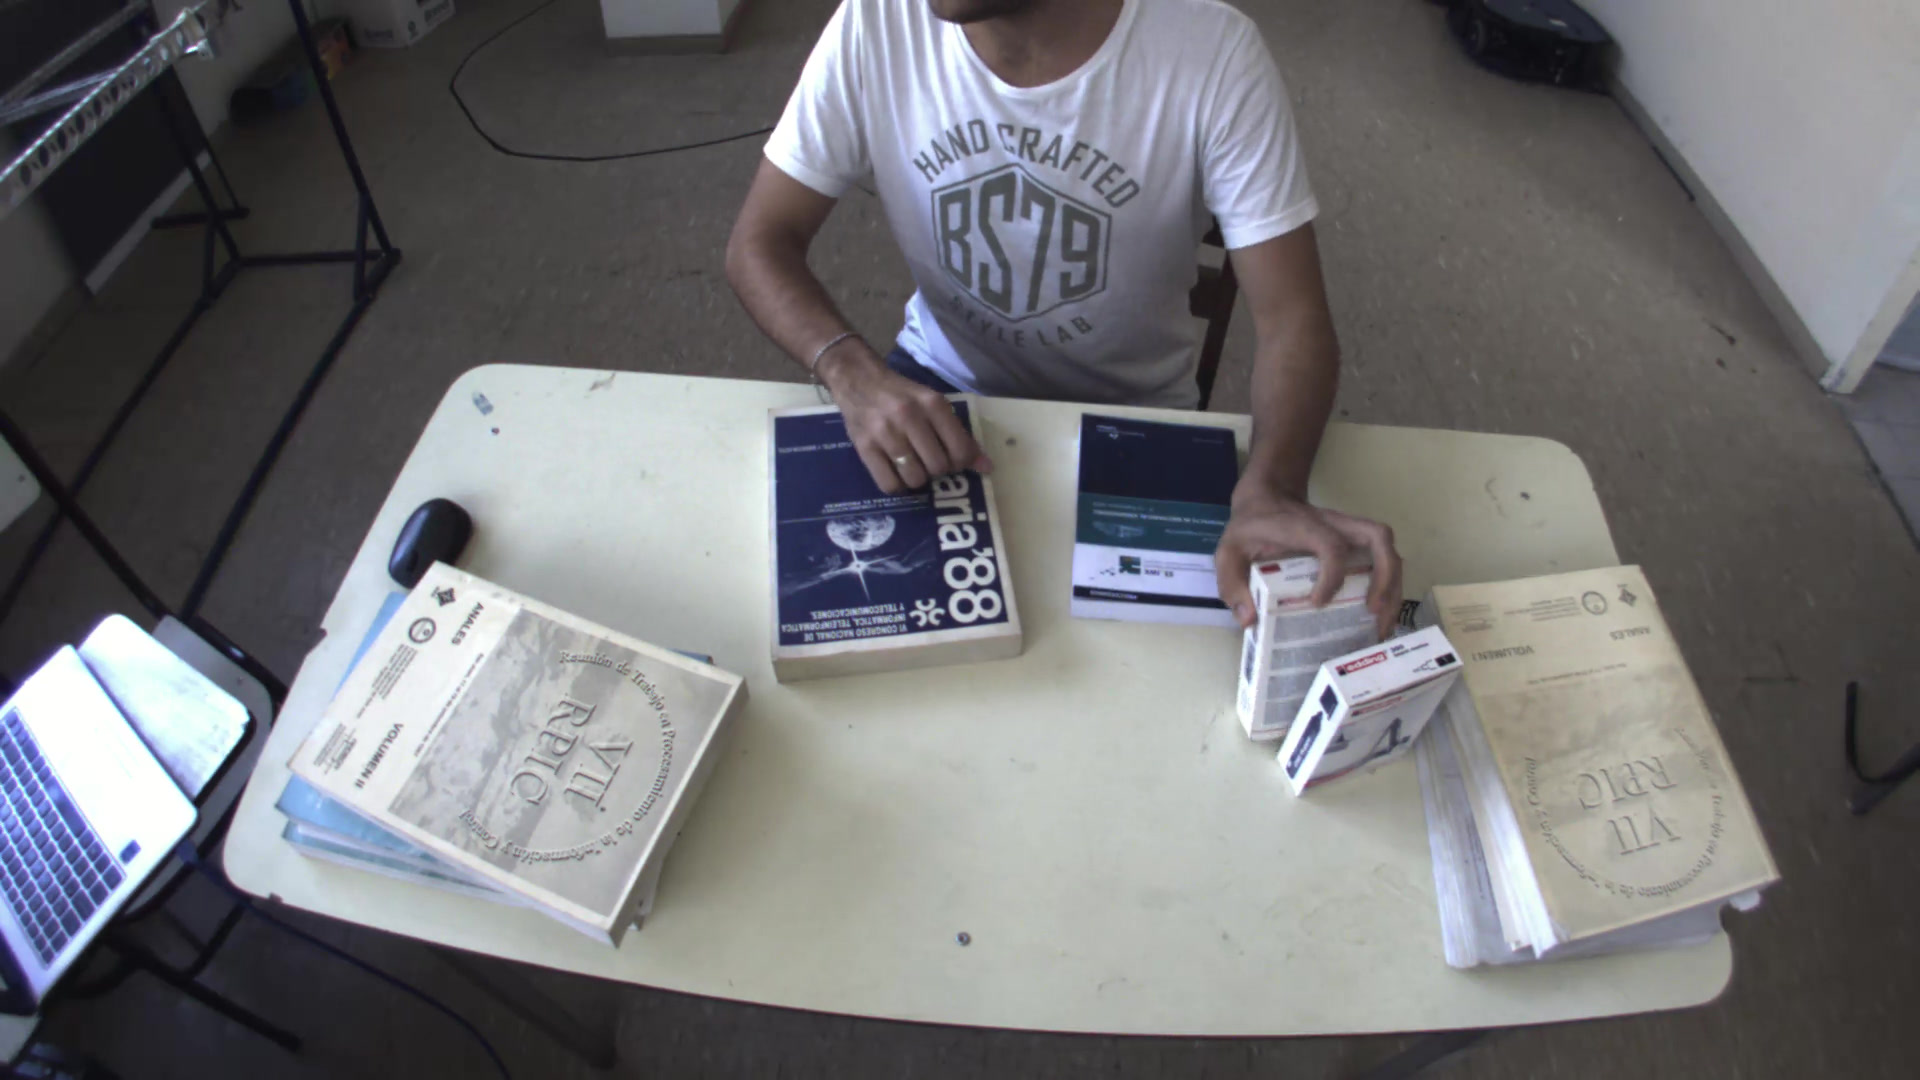hand: (1203, 475, 1432, 628), (804, 335, 990, 491)
